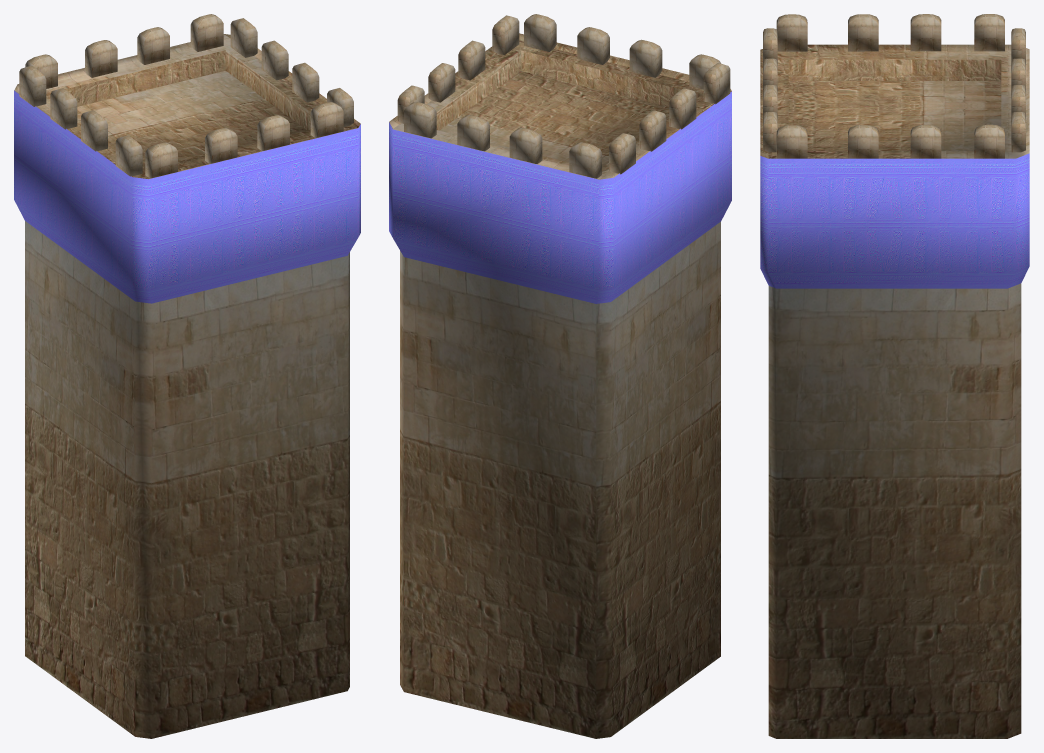
File: main_tower.gltf
3 renders of one model, left to right at view 1: azimuth 30°, elevation 25°; view 2: azimuth 150°, elevation 25°; view 3: azimuth 270°, elevation 25°, orthographic. The views are drawn at different scales.
Parts seen in each view (by area): view 1: main_tower; view 2: main_tower; view 3: main_tower.
Boxes of the visible parts, box(x1,y1,x2,y2) form: main_tower: box(14, 14, 360, 738); main_tower: box(389, 14, 731, 738); main_tower: box(760, 14, 1029, 738).
Size of the model in its own units: 1.45 by 3.64 by 1.44.
2 materials, 2 textured.
